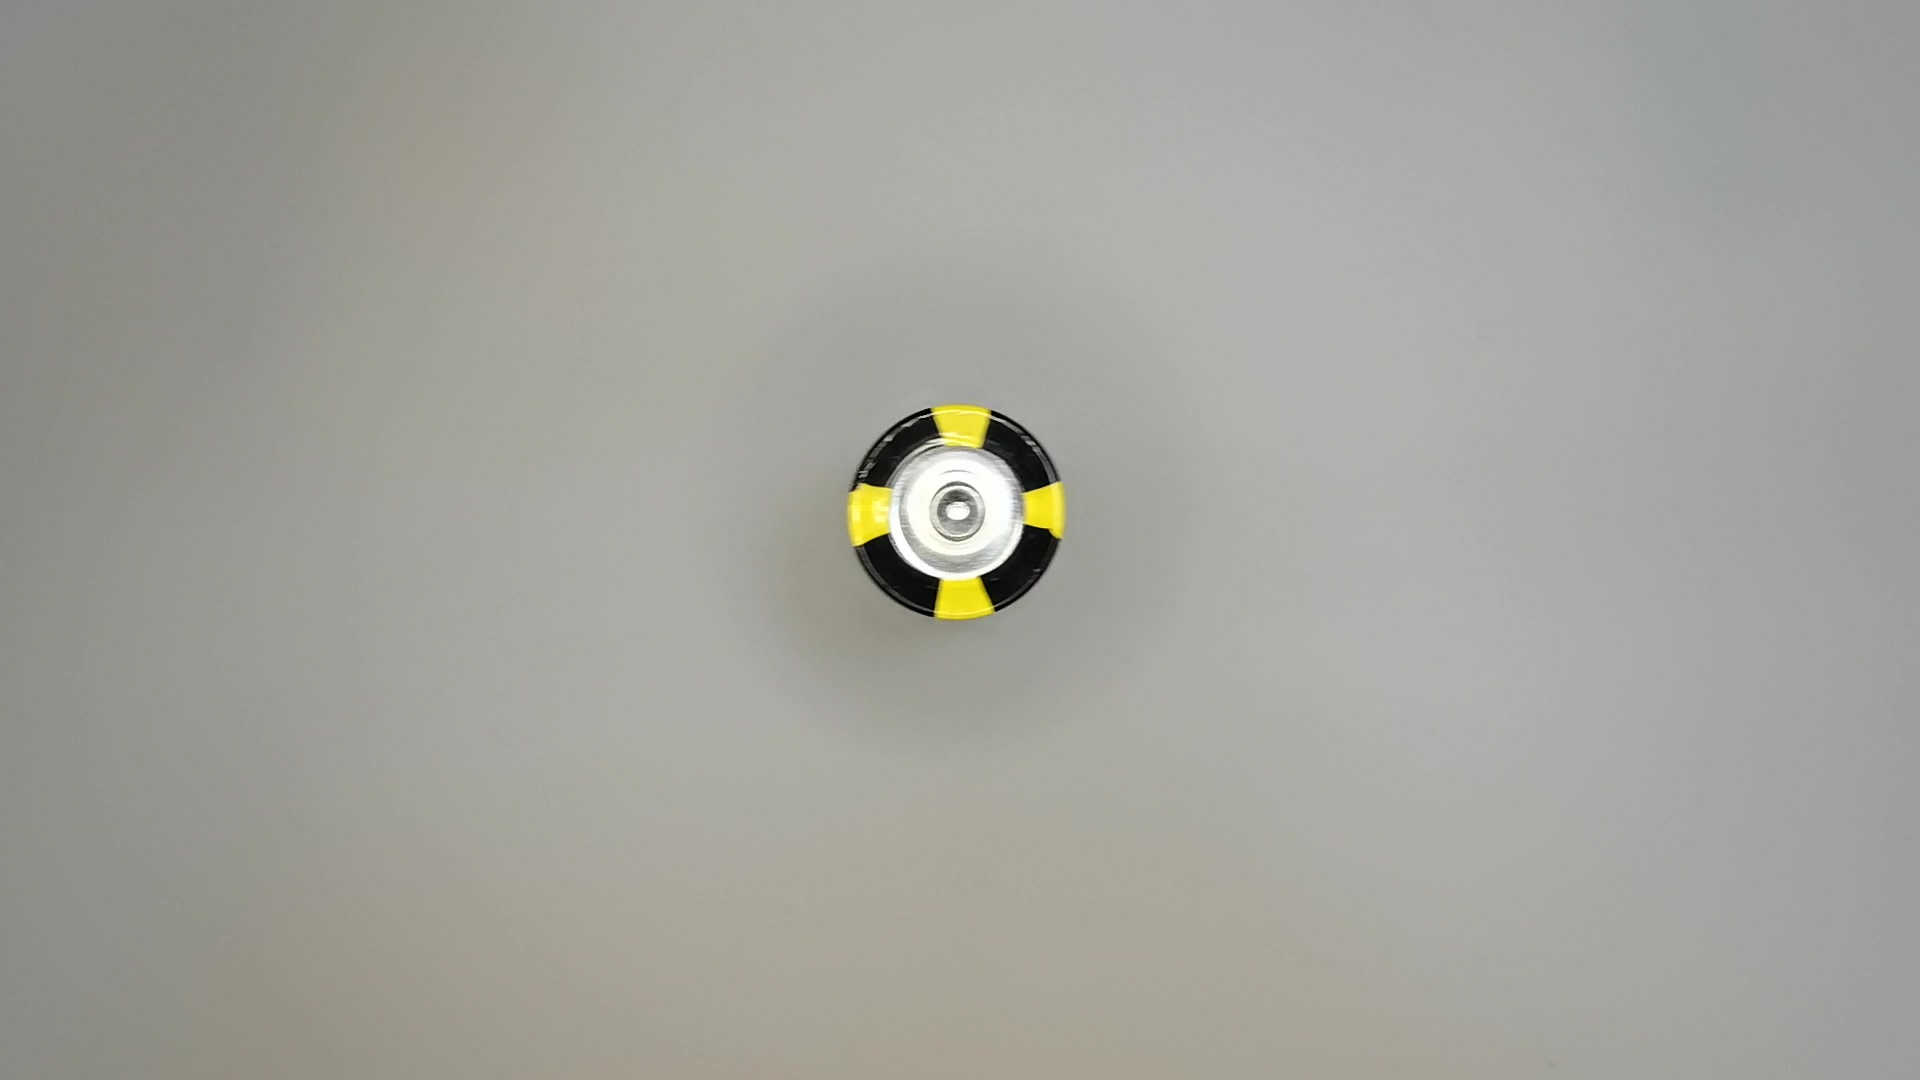battery: (841, 401, 1071, 624)
